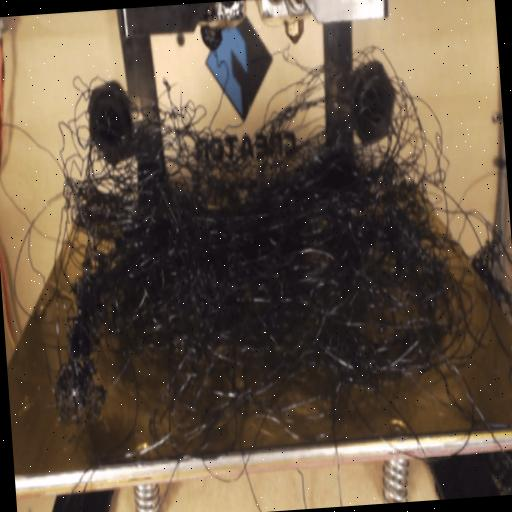spaghetti: (31, 40, 480, 444)
